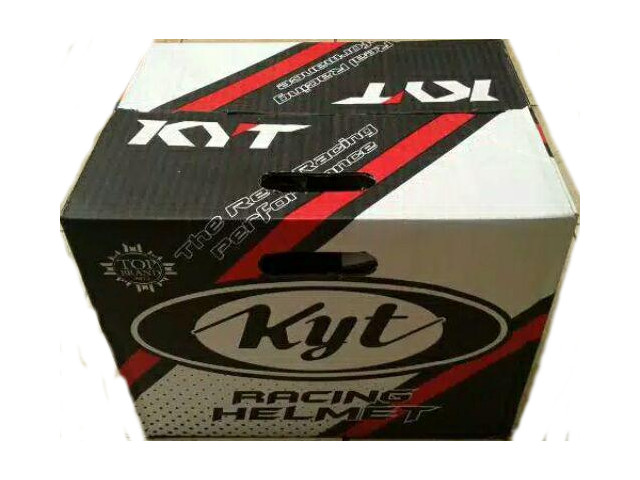cardboard: (59, 39, 577, 444)
